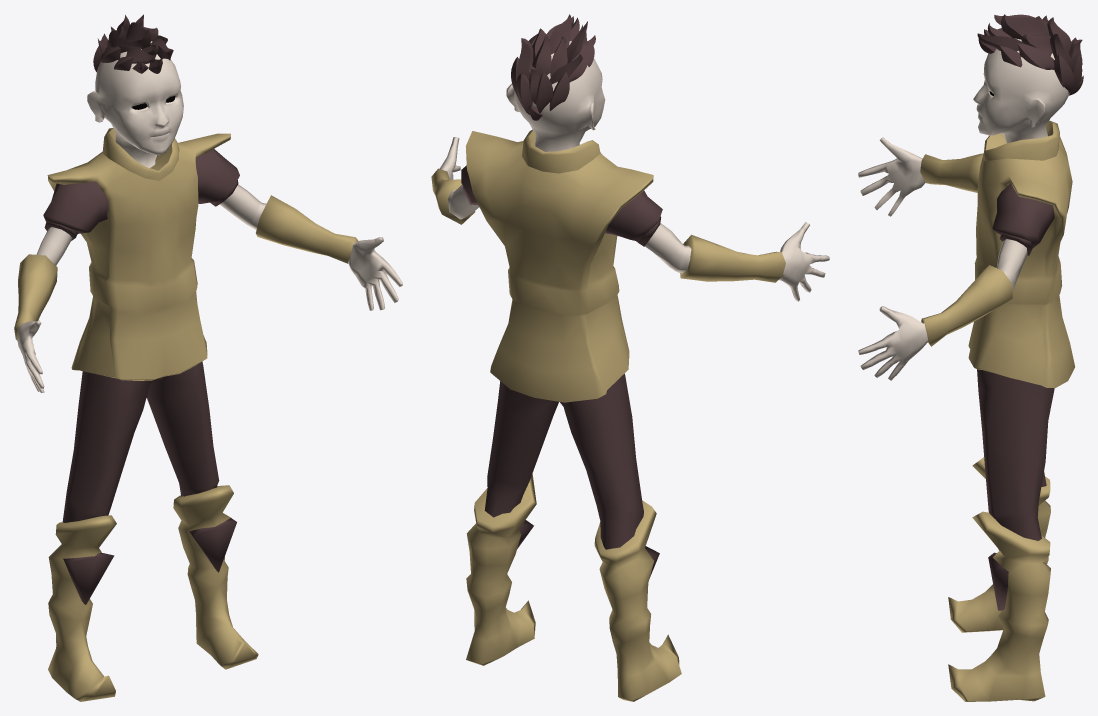
Rendered from argia_placeholder2.fbx.
The picture shows the model from 3 angles, left to right: view 1: azimuth 30°, elevation 25°; view 2: azimuth 150°, elevation 25°; view 3: azimuth 270°, elevation 25°; orthographic projection. The views are drawn at different scales.
Visible parts, largest first — view 1: polySurface31, polySurface32, polySurface42, polySurface33, polySurface44, polySurface38, polySurface40, polySurface41, polySurface35, polySurface39, polySurface43, polySurface45 (+3 smaller); view 2: polySurface31, polySurface32, polySurface42, polySurface44, polySurface33, polySurface41, polySurface40, polySurface37, polySurface36, polySurface38; view 3: polySurface31, polySurface44, polySurface32, polySurface33, polySurface38, polySurface39, polySurface42, polySurface35, polySurface37, polySurface41, polySurface34, polySurface45 (+4 smaller).
Part boxes in pixels (x1,y1,x2,y2): polySurface31: (47, 128, 230, 380); polySurface32: (62, 361, 219, 522); polySurface42: (48, 515, 116, 701); polySurface33: (87, 41, 183, 167); polySurface44: (173, 485, 258, 669); polySurface38: (256, 195, 358, 263); polySurface40: (43, 181, 108, 240); polySurface41: (14, 254, 57, 340); polySurface35: (348, 237, 402, 310); polySurface39: (195, 149, 239, 206); polySurface43: (63, 552, 114, 604); polySurface45: (189, 518, 236, 572); polySurface31: (465, 129, 653, 402); polySurface32: (484, 373, 643, 549); polySurface42: (594, 500, 681, 701); polySurface44: (466, 473, 536, 665); polySurface33: (506, 41, 605, 151); polySurface41: (680, 234, 785, 282); polySurface40: (605, 190, 662, 246); polySurface37: (779, 222, 829, 301); polySurface36: (645, 223, 691, 273); polySurface38: (431, 168, 475, 224); polySurface31: (968, 120, 1074, 388); polySurface44: (948, 511, 1050, 701); polySurface32: (977, 369, 1054, 540); polySurface33: (973, 38, 1070, 143); polySurface38: (921, 265, 1012, 346); polySurface39: (992, 183, 1054, 255); polySurface42: (948, 457, 1050, 632); polySurface35: (858, 306, 928, 380); polySurface37: (858, 137, 925, 216); polySurface41: (920, 153, 983, 192); polySurface34: (996, 239, 1027, 290); polySurface45: (988, 552, 1008, 610).
Size of the model in its own units: 1.17 by 1.97 by 0.6219.
